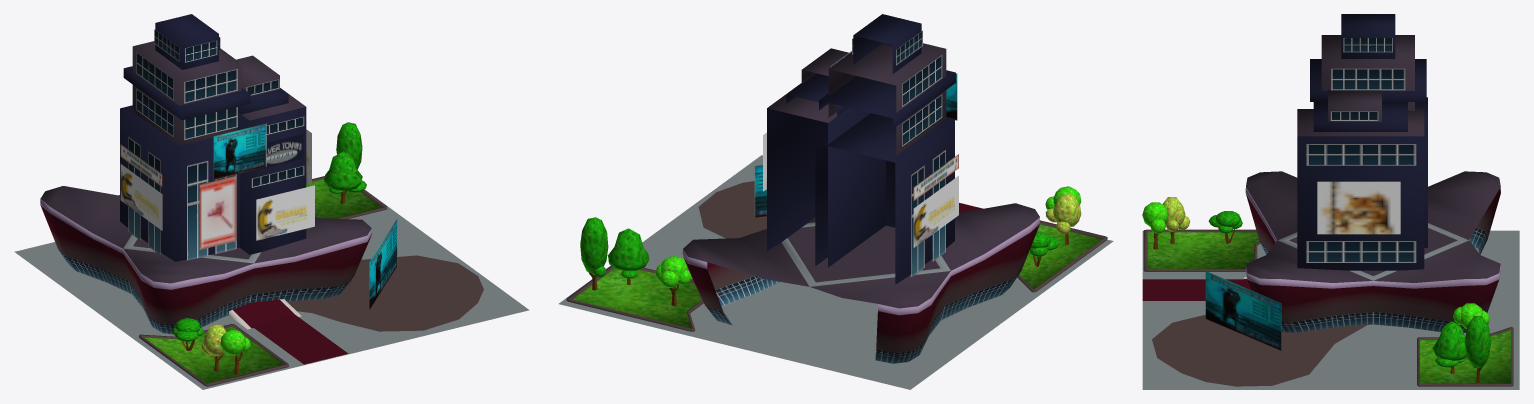
File: cinema_LV1.fbx
3 renders of one model, left to right at view 1: azimuth 30°, elevation 25°; view 2: azimuth 150°, elevation 25°; view 3: azimuth 270°, elevation 25°, orthographic. The views are drawn at different scales.
Visible parts, largest first — view 1: Cinema_Lv1; view 2: Cinema_Lv1; view 3: Cinema_Lv1.
Part boxes in pixels (x1,y1,x2,y2): Cinema_Lv1: (14, 14, 529, 389); Cinema_Lv1: (559, 14, 1113, 389); Cinema_Lv1: (1142, 14, 1519, 389).
Size of the model in its own units: 120 by 89.9 by 120.
